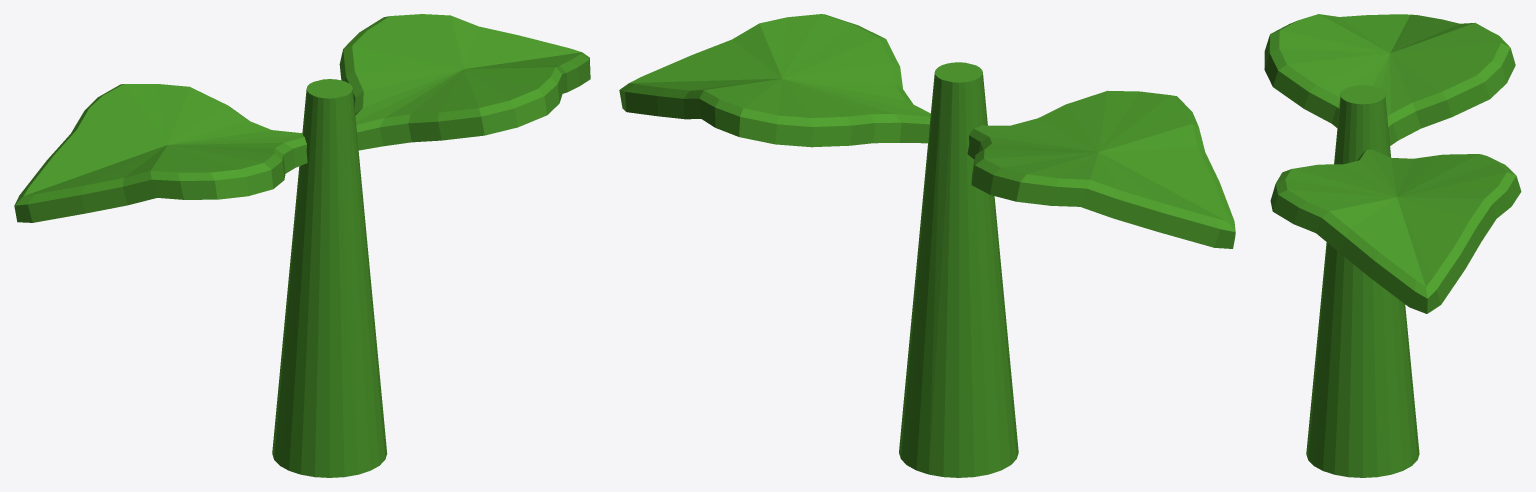
File: PlantaPeque.fbx
3 renders of one model, left to right at view 1: azimuth 30°, elevation 25°; view 2: azimuth 150°, elevation 25°; view 3: azimuth 270°, elevation 25°, orthographic. The views are drawn at different scales.
Visible parts, largest first — view 1: Cylinder.001; view 2: Cylinder.001; view 3: Cylinder.001.
Part boxes in pixels (left/top/right/bottom): Cylinder.001: left=14, top=14, right=590, bottom=477; Cylinder.001: left=619, top=14, right=1235, bottom=477; Cylinder.001: left=1264, top=14, right=1521, bottom=477.
Size of the model in its own units: 234 by 140 by 90.75.
